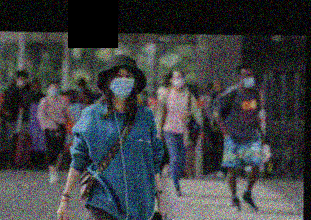with_mask: (107, 69, 136, 99), (241, 71, 258, 90), (169, 74, 185, 90), (47, 84, 62, 98), (16, 75, 26, 88)
